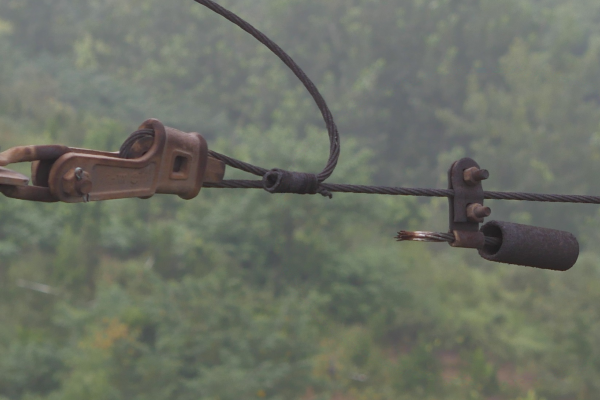damper_defect: (390, 154, 582, 274)
